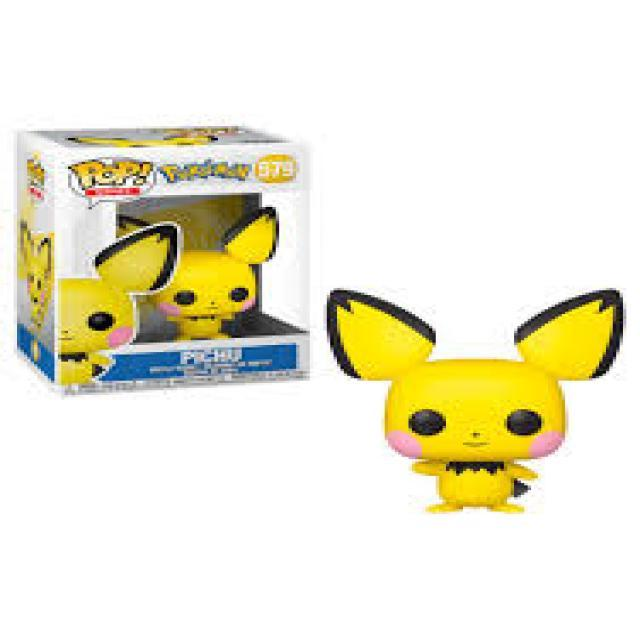pichu: (324, 282, 630, 518), (142, 198, 300, 342), (47, 236, 188, 393)
